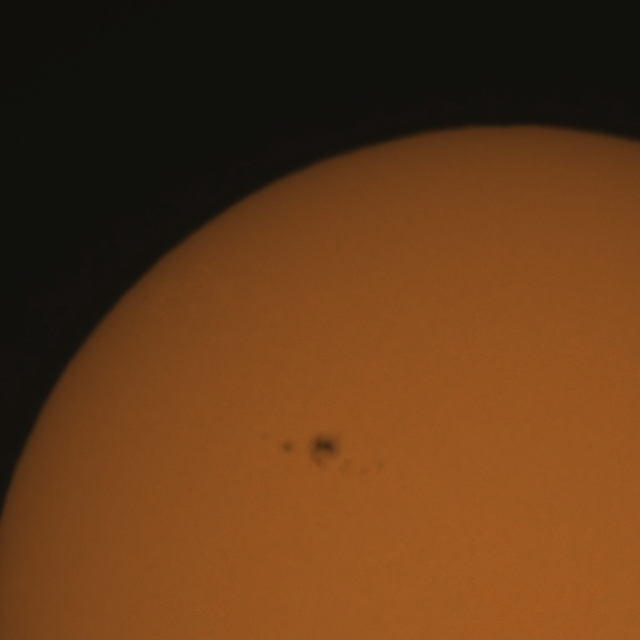sunspot: (309, 434, 338, 472), (280, 438, 295, 456)
